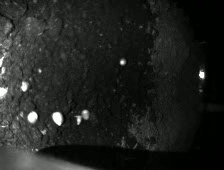corn: (49, 108, 64, 127), (25, 108, 40, 126), (17, 79, 32, 93), (80, 107, 92, 121), (73, 112, 83, 127), (118, 56, 129, 68)
